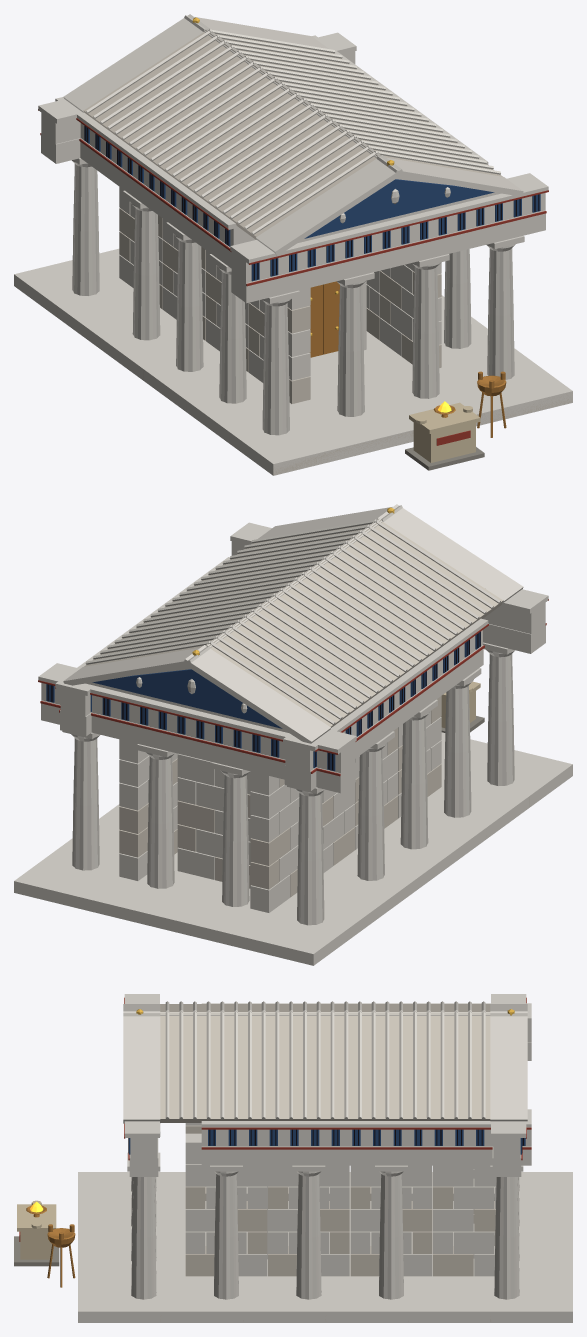
The model's file is Temple_Doric.glb.
The picture shows the model from 3 angles, top to bottom: view 1: azimuth 30°, elevation 25°; view 2: azimuth 150°, elevation 25°; view 3: azimuth 270°, elevation 25°; orthographic projection. The views are drawn at different scales.
Parts seen in each view (by area): view 1: Temple_Roof.001, Temple_Roof.002, Temple_Roof.003, Temple_Roof.004, Pediment.001, Pediment.002, Entablature.001, Temple_Step.001, Entablature.004, Altar.001, Column_Doric.005, Column_Doric.003 (+34 smaller); view 2: Temple_Roof.004, Temple_Roof.001, Temple_Roof.002, Temple_Roof.003, Pediment.002, Temple_Wall.007, Temple_Wall.009, Pediment.001, Temple_Wall.008, Temple_Step.006, Temple_Step.024, Column_Doric.006 (+30 smaller); view 3: Temple_Roof.001, Temple_Roof.003, Temple_Roof.004, Temple_Roof.002, Temple_Wall.002, Temple_Wall.008, Temple_Wall.006, Temple_Wall.004, Pediment.001, Pediment.002, Temple_Step.023, Entablature.013 (+26 smaller).
Part boxes in pixels (<box>): Temple_Roof.001: <box>213,124,502,239</box>; Temple_Roof.002: <box>170,92,457,206</box>; Temple_Roof.003: <box>127,60,414,175</box>; Temple_Roof.004: <box>83,29,371,143</box>; Pediment.001: <box>256,155,523,256</box>; Pediment.002: <box>63,14,328,112</box>; Entablature.001: <box>230,238,324,303</box>; Temple_Step.001: <box>230,414,348,475</box>; Entablature.004: <box>469,173,548,248</box>; Altar.001: <box>405,401,484,470</box>; Column_Doric.005: <box>412,254,449,398</box>; Column_Doric.003: <box>337,272,374,416</box>; Temple_Roof.004: <box>84,614,373,727</box>; Temple_Roof.001: <box>215,519,503,633</box>; Temple_Roof.002: <box>172,550,459,665</box>; Temple_Roof.003: <box>129,582,416,696</box>; Pediment.002: <box>63,645,330,743</box>; Temple_Wall.007: <box>250,771,299,912</box>; Temple_Wall.009: <box>177,753,250,888</box>; Pediment.001: <box>257,504,523,605</box>; Temple_Wall.008: <box>119,739,177,880</box>; Temple_Step.006: <box>238,904,356,965</box>; Temple_Step.024: <box>14,849,119,910</box>; Column_Doric.006: <box>137,744,174,888</box>; Temple_Roof.001: <box>160,1001,242,1122</box>; Temple_Roof.003: <box>325,1001,407,1120</box>; Temple_Roof.004: <box>408,1001,490,1120</box>; Temple_Roof.002: <box>243,1001,325,1120</box>; Temple_Wall.002: <box>185,1133,267,1276</box>; Temple_Wall.008: <box>433,1165,496,1276</box>; Temple_Wall.006: <box>350,1165,432,1276</box>; Temple_Wall.004: <box>268,1165,349,1276</box>; Pediment.001: <box>123,1004,160,1123</box>; Pediment.002: <box>490,1004,527,1121</box>; Temple_Step.023: <box>408,1276,490,1322</box>; Entablature.013: <box>201,1121,284,1165</box>.
Size of the model in its own units: 8 by 6.53 by 13.55.
